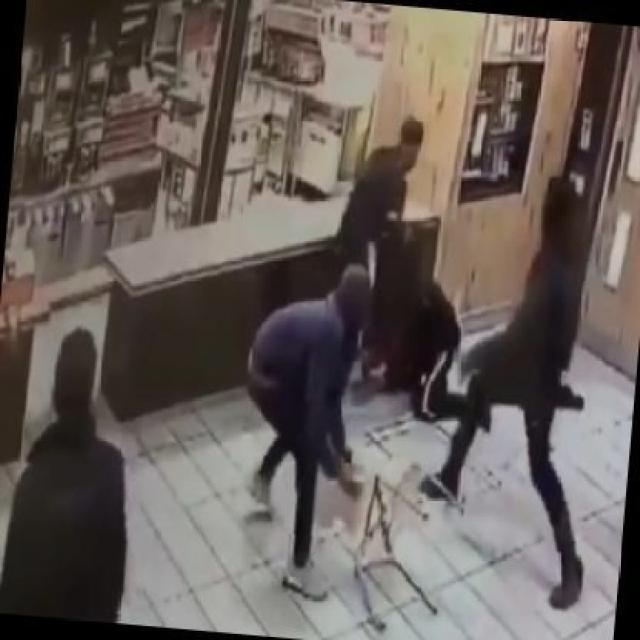fight: (242, 112, 632, 609)
non-fight: (0, 316, 168, 636)
